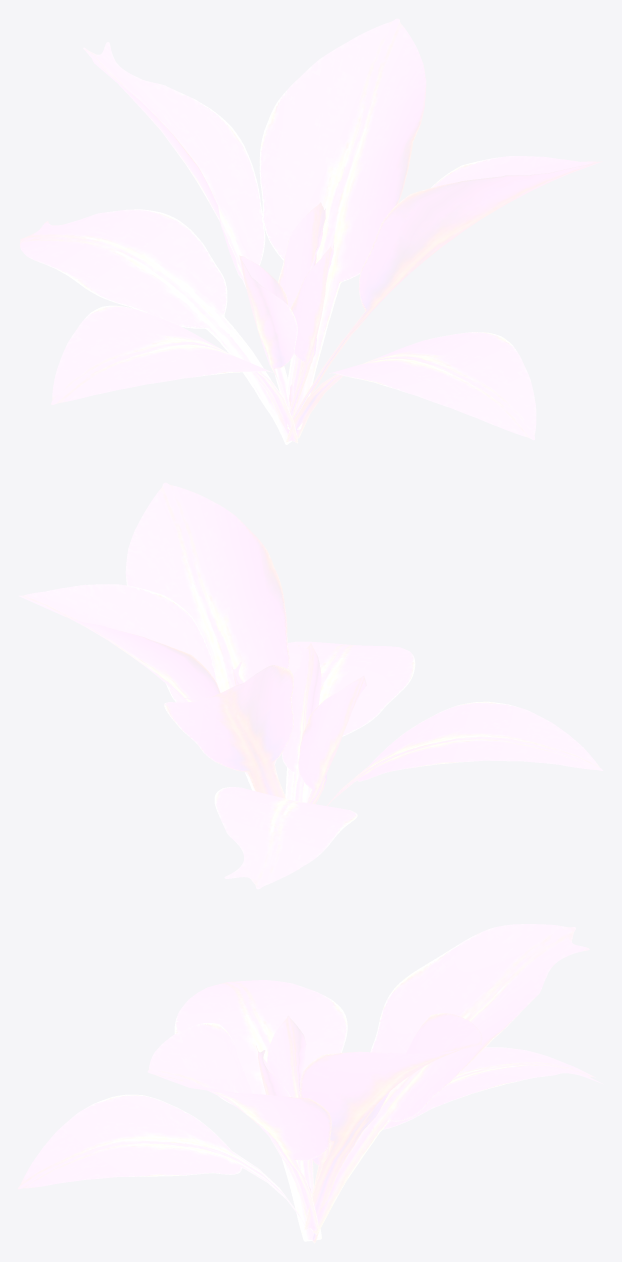
The picture shows the model from 3 angles, top to bottom: view 1: azimuth 30°, elevation 25°; view 2: azimuth 150°, elevation 25°; view 3: azimuth 270°, elevation 25°; orthographic projection. The views are drawn at different scales.
Parts seen in each view (by area): view 1: SM_GF_Sm_Plant_01_LOD0; view 2: SM_GF_Sm_Plant_01_LOD0; view 3: SM_GF_Sm_Plant_01_LOD0.
Boxes of the visible parts, box(x1,y1,x2,y2) form: SM_GF_Sm_Plant_01_LOD0: box(20, 18, 602, 444); SM_GF_Sm_Plant_01_LOD0: box(19, 482, 603, 889); SM_GF_Sm_Plant_01_LOD0: box(17, 924, 603, 1243).
Bounding box in the file's own units: 1.33 × 0.7758 × 1.43.
1 material, 1 textured.
